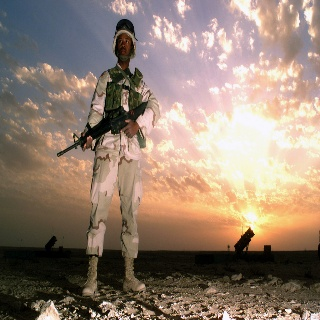rifle: (56, 100, 147, 158)
